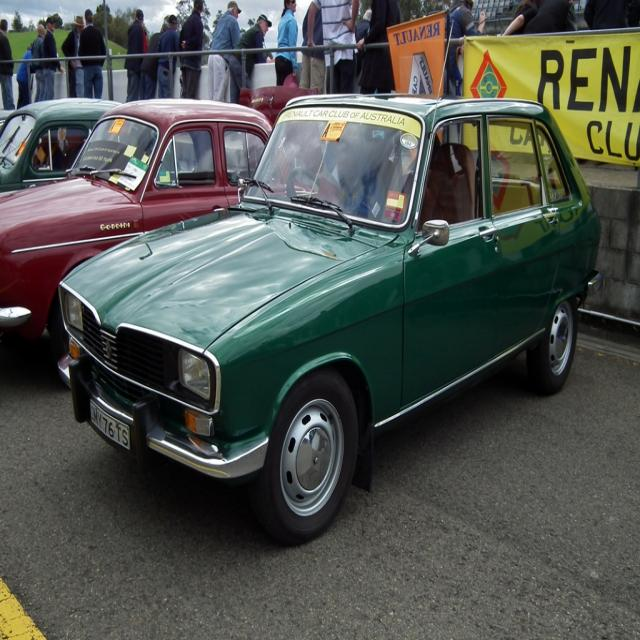car: (56, 19, 603, 543)
